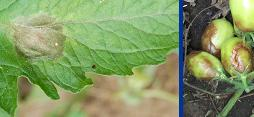Tomato leaf late blight: (0, 0, 178, 112)
